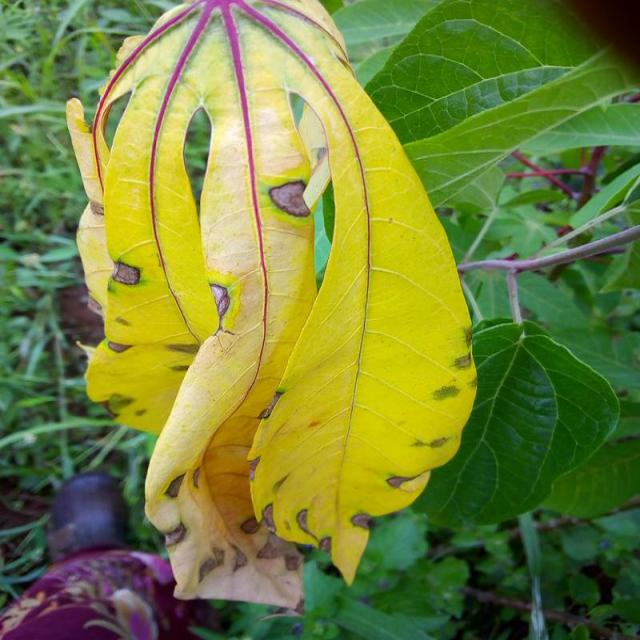cassava leaf: (65, 0, 478, 609), (404, 315, 621, 533)
